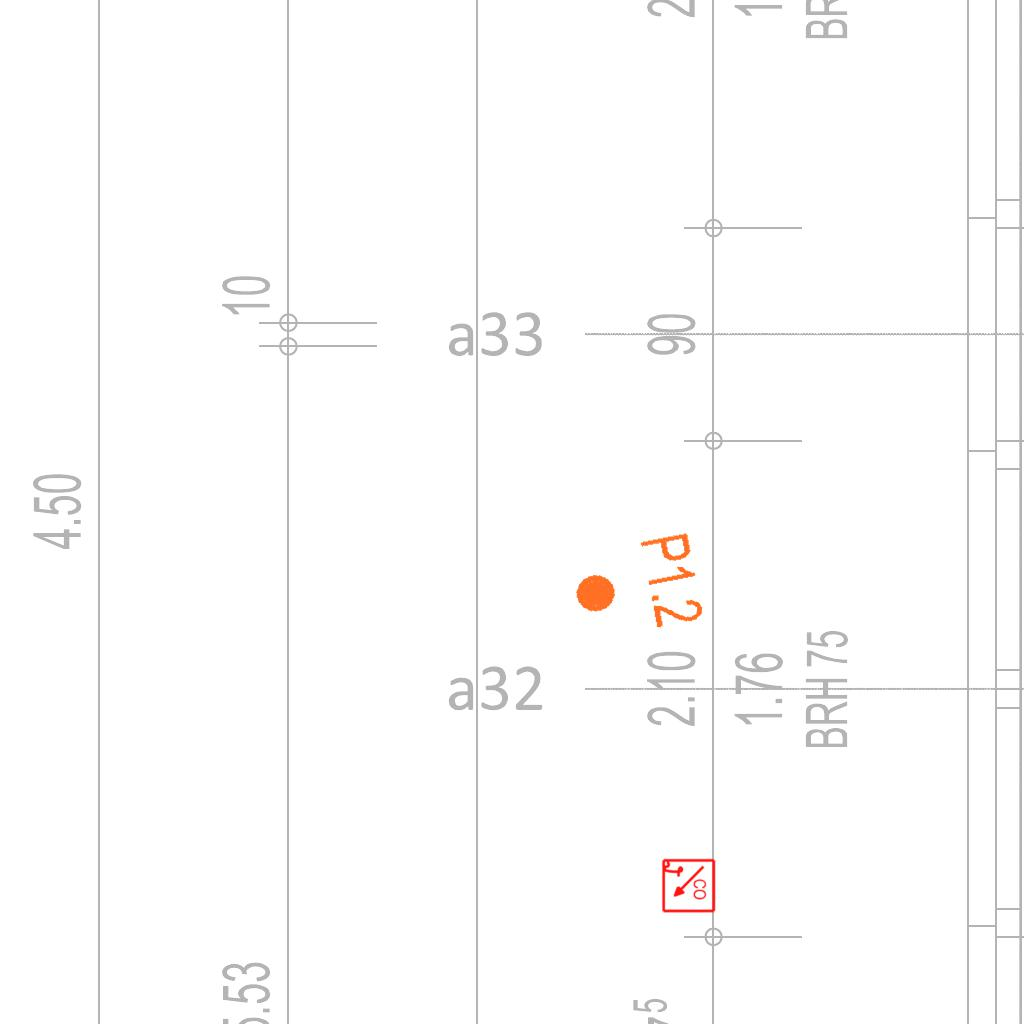Downlight_LED_Einbauleuchten_Flur: (564, 529, 709, 645)
ROA_Rauchmelder_optisch_mit_Signalgeber_(Sockelsirene): (660, 858, 716, 914)
